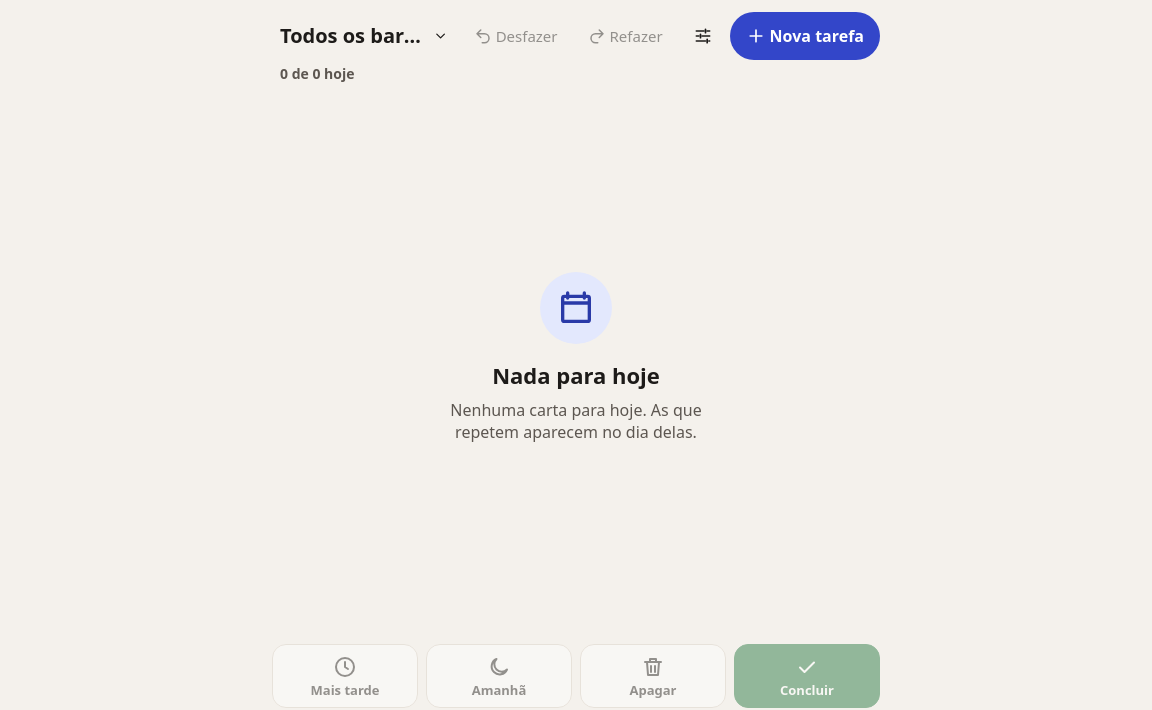
Test: Settings > Appearance › "Restaurar padrão" goes back to auto, and is disabled when already there
Click the button named "Configurações".
click(703, 36)  # box top-left (680, 12), bottom-right (726, 60)
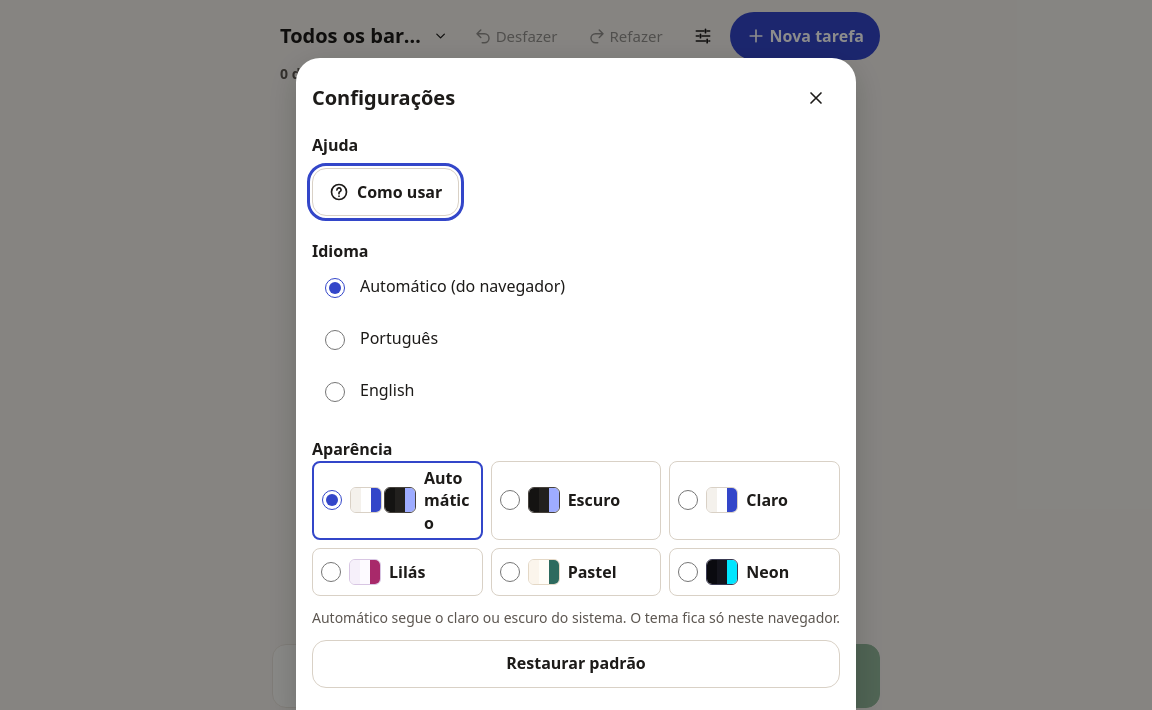
Now the button "Restaurar padrão" is disabled, box top-left (312, 640), bottom-right (840, 688)
Click the radio button labelled "Lilás".
click(331, 572)  # box top-left (321, 562), bottom-right (341, 582)
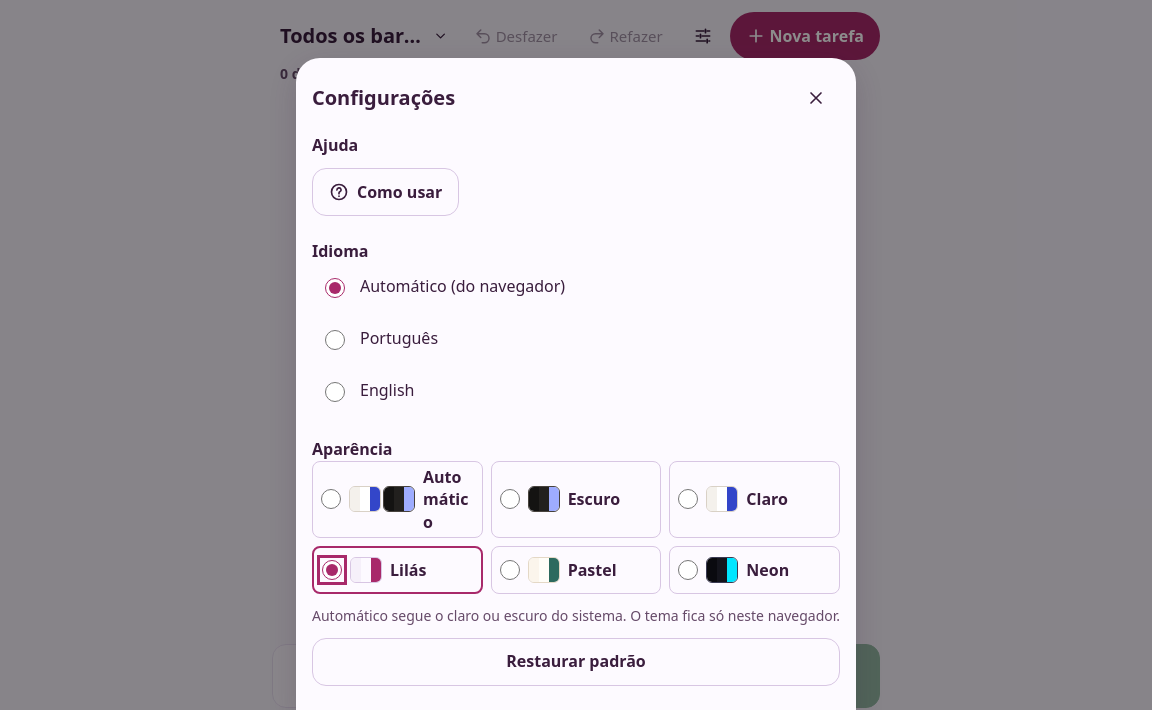
Click the button "Restaurar padrão".
click(576, 662)  # box top-left (312, 638), bottom-right (840, 686)
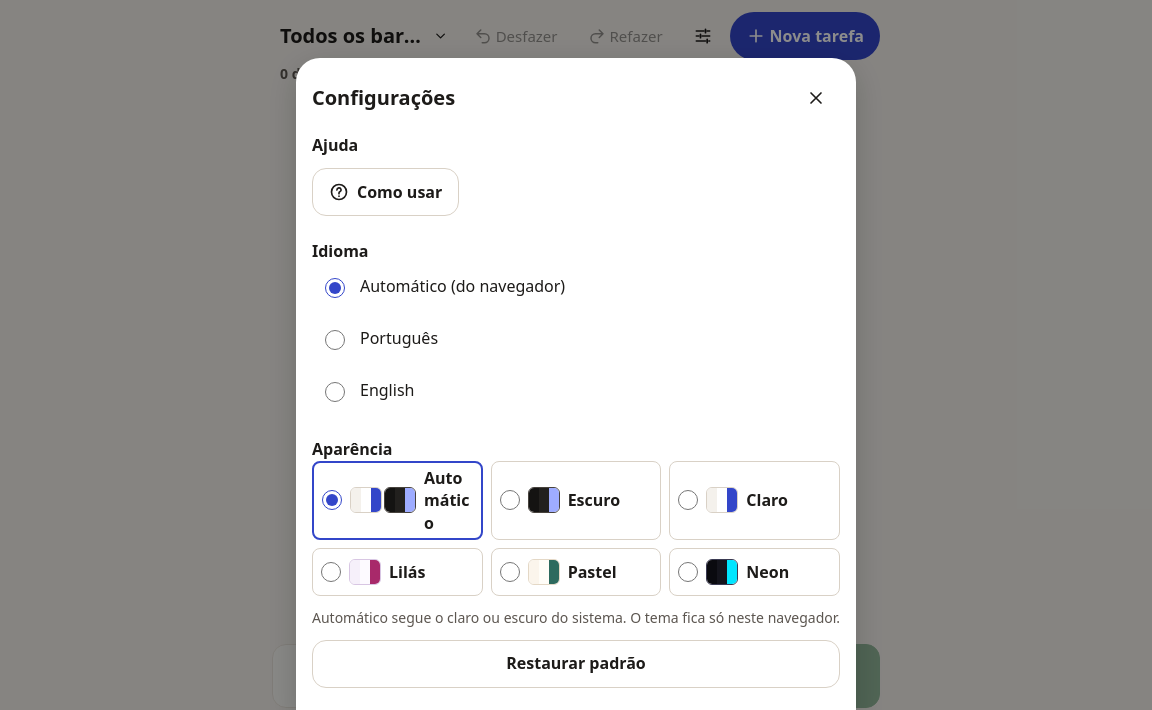
Now the radio button labelled "Automático" is checked, box top-left (322, 490), bottom-right (342, 510)
